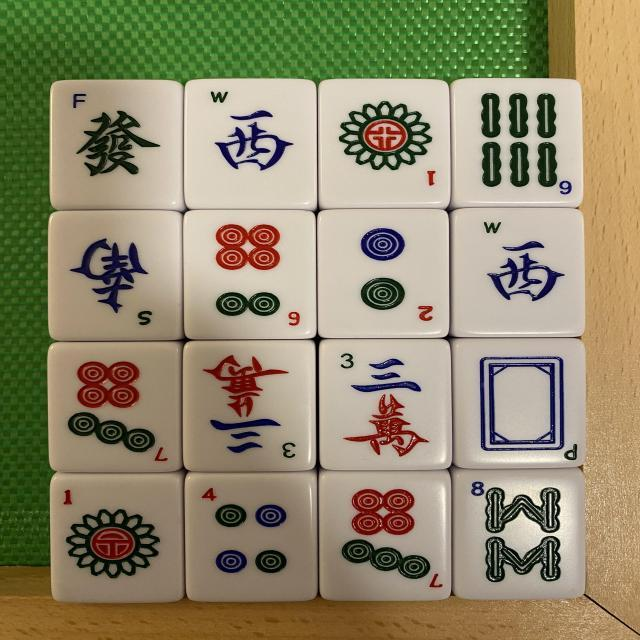hdg: (55, 82, 184, 208)
hdw: (456, 336, 587, 464)
hws: (53, 215, 181, 338)
hww: (189, 78, 320, 206), (455, 208, 583, 334)
sb6: (458, 81, 582, 206)
sb8: (455, 474, 584, 600)
sc3: (319, 339, 452, 472), (184, 340, 314, 473)
sd1: (55, 472, 184, 602), (322, 78, 451, 204)
sd2: (318, 210, 447, 340)
sd4: (188, 475, 314, 598)
sd6: (188, 212, 318, 338)
sd7: (323, 472, 453, 602), (52, 350, 181, 474)
